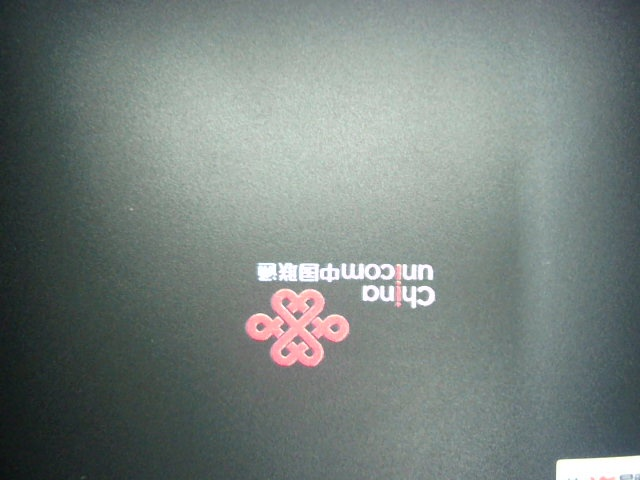AC_ChinaUnicom: (226, 253, 438, 369)
